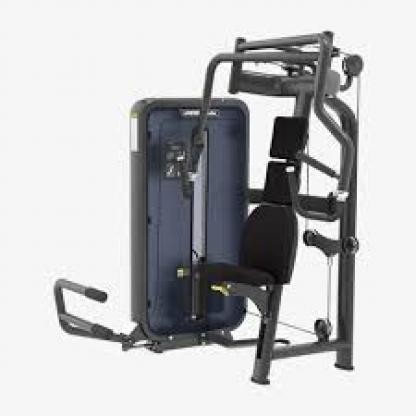shoulder press machine: (49, 22, 375, 396)
